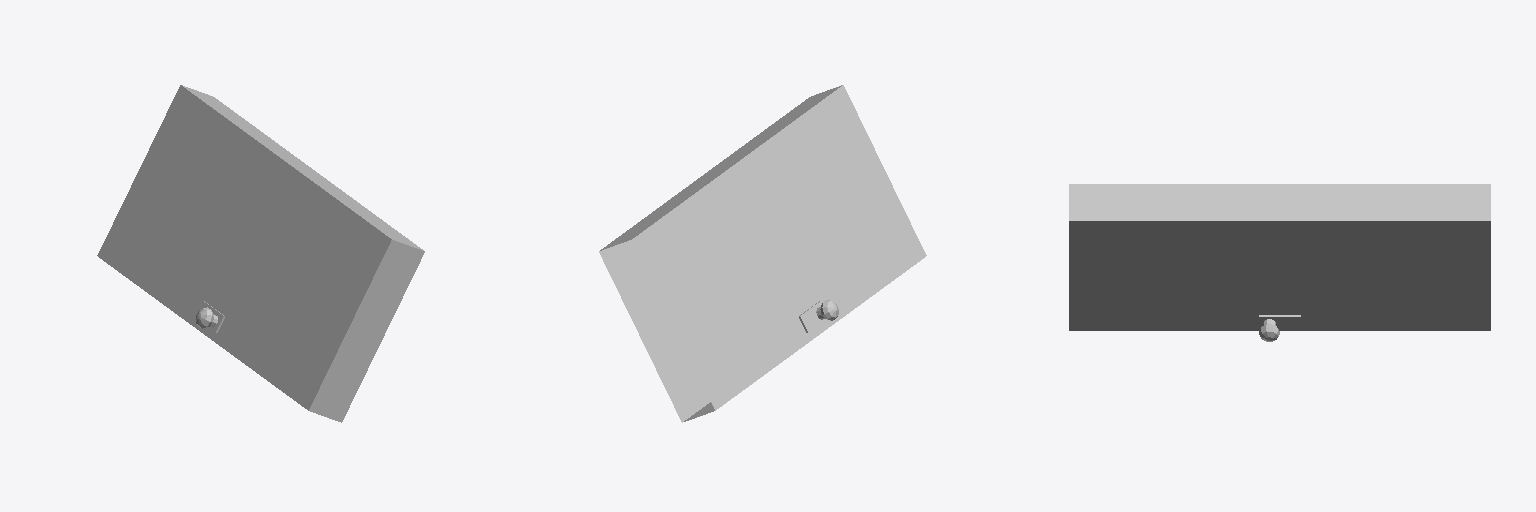
The model's file is f_Door(open_2_3).obj.
3 views of the same model, side by side, from view 1: azimuth 30°, elevation 25°; view 2: azimuth 150°, elevation 25°; view 3: azimuth 270°, elevation 25° (orthographic).
Parts seen in each view (by area): view 1: Door.004; view 2: Door.004; view 3: Door.004.
Boxes of the visible parts, box(x1,y1,x2,y2) form: Door.004: box(97, 85, 424, 422); Door.004: box(599, 85, 926, 422); Door.004: box(1069, 184, 1490, 341).
Bounding box in the file's own units: 6.6 × 8.58 × 19.